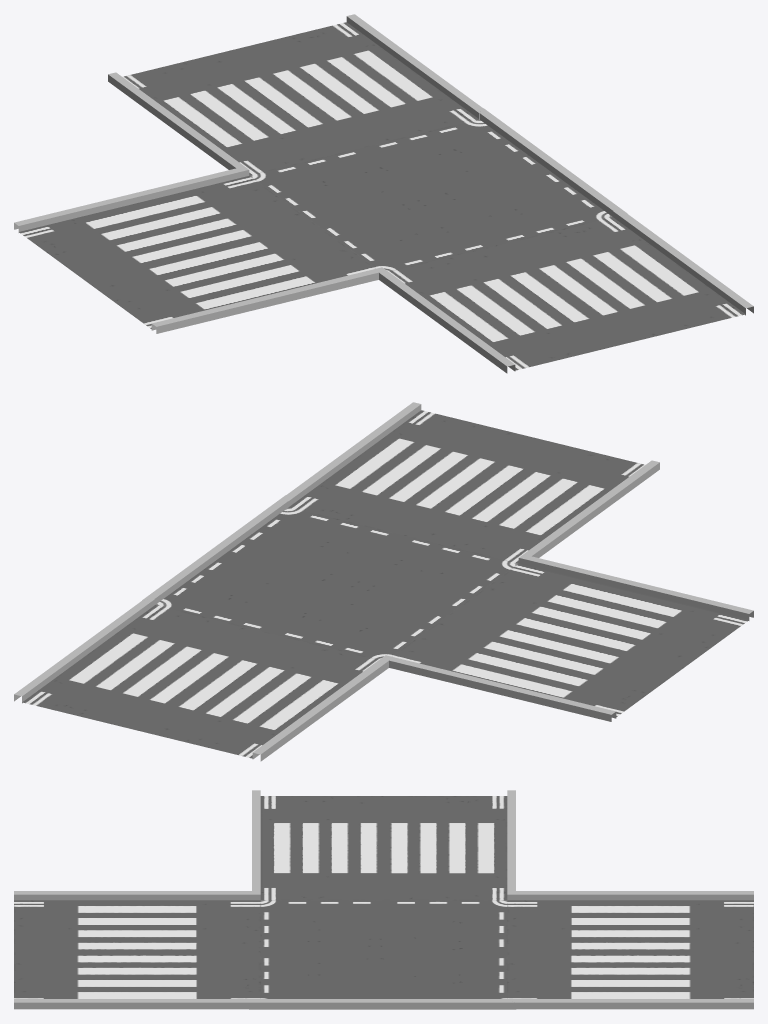
File: T street.FBX
3 views of the same model, one above another, from view 1: azimuth 30°, elevation 25°; view 2: azimuth 150°, elevation 25°; view 3: azimuth 270°, elevation 25° (orthographic). The views are drawn at different scales.
Parts seen in each view (by area): view 1: CrossX; view 2: CrossX; view 3: CrossX.
Part boxes in pixels (bbox=[...]): CrossX: bbox=[14, 14, 753, 373]; CrossX: bbox=[14, 402, 753, 761]; CrossX: bbox=[14, 790, 753, 1009].
Size of the model in its own units: 802 by 1181 by 11.81.
